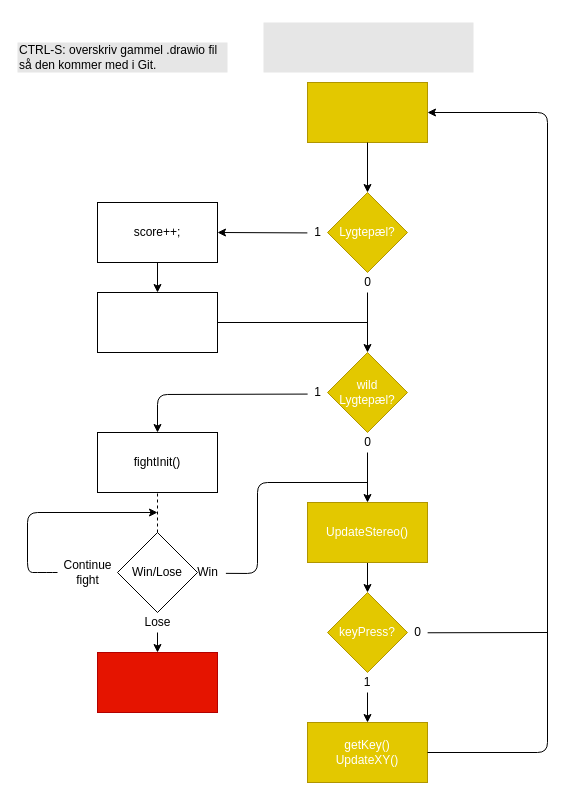
This 573x800 diagram has some shape labels left out. The centre of each missing label's shape, as x and y in pixels:
"Game Over" belongs at pixel 157 682.
"Lygtepæl(x,y) = 0;" belongs at pixel 157 322.
"Main() While loop" belongs at pixel 368 47.
"UpdateMap(x,y)" belongs at pixel 367 112.
